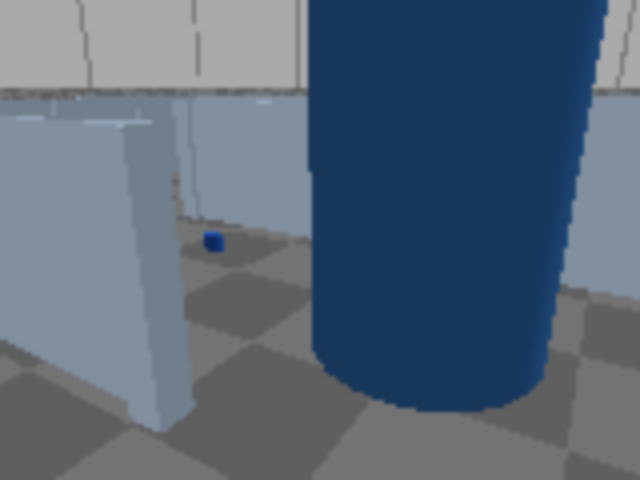person: (326, 0, 638, 400)
puck: (206, 232, 221, 252)
